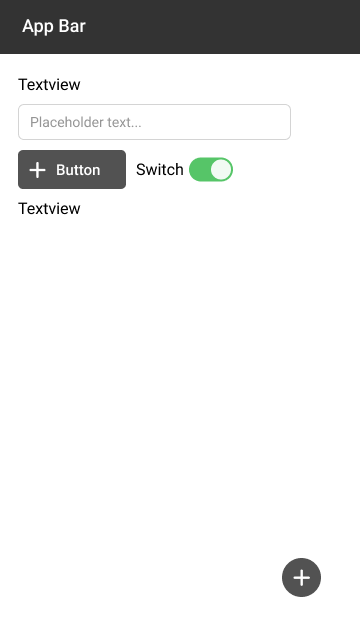buttonImage: (16, 148, 128, 190)
editText: (17, 102, 293, 143)
floatingButton: (278, 556, 324, 600)
switch: (135, 157, 233, 181)
textView: (16, 199, 84, 217), (17, 77, 82, 92)
toolbar: (1, 1, 360, 56)
